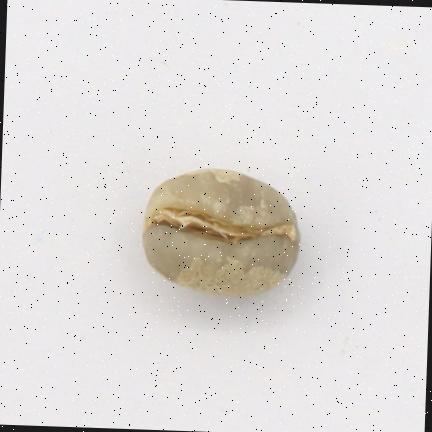immature: (143, 170, 300, 295)
